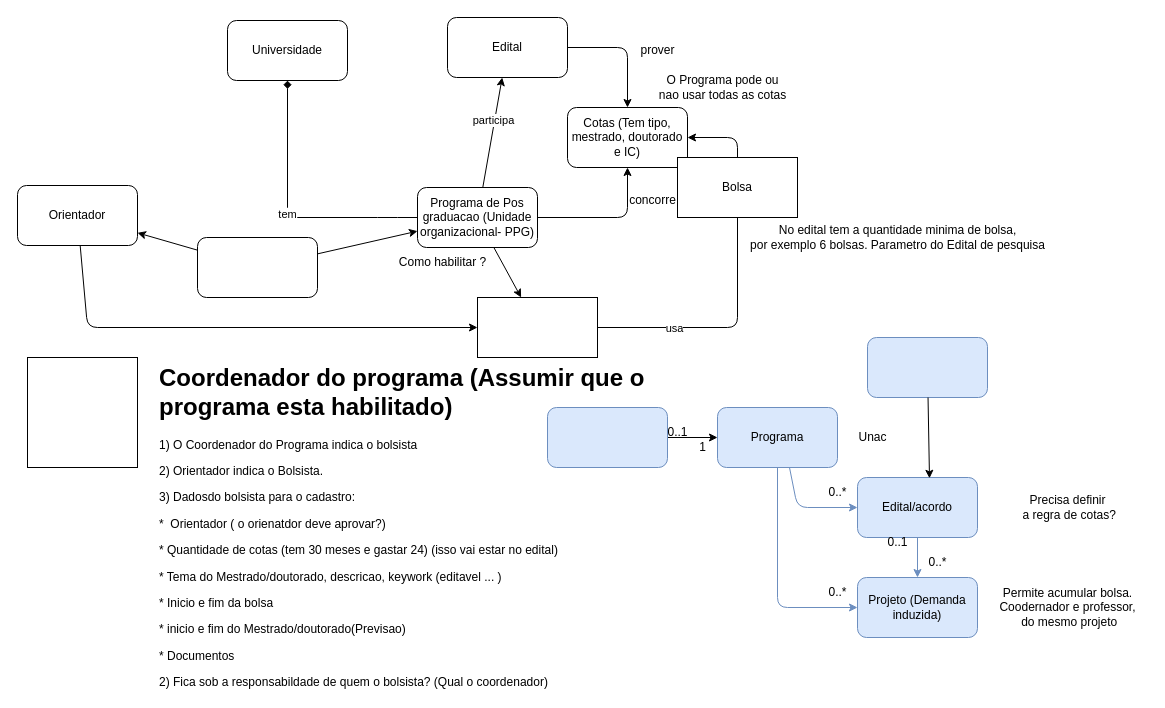
This 1165x708 diagram has some shape labels left out. Here are the shapes that lost their labels. From the top down, the centre of each, then its label:
point (257, 267): Coordenador
point (537, 327): Bolsista
point (927, 367): Parceiros
point (607, 437): Comiter Gestor
